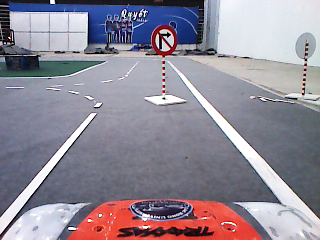ban: (151, 24, 179, 56)
